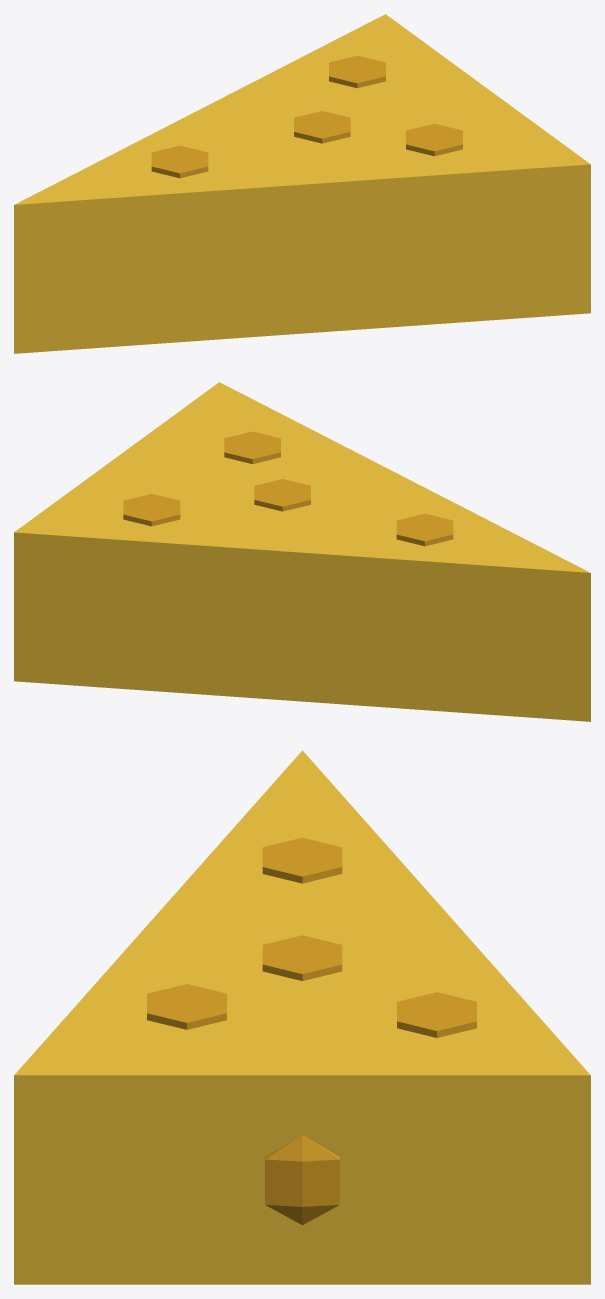
The model's file is Food_Cheese.obj.
The picture shows the model from 3 angles, top to bottom: view 1: azimuth 30°, elevation 25°; view 2: azimuth 150°, elevation 25°; view 3: azimuth 270°, elevation 25°; orthographic projection. The views are drawn at different scales.
Bounding box in the file's own units: 2.03 × 0.62 × 1.5.
